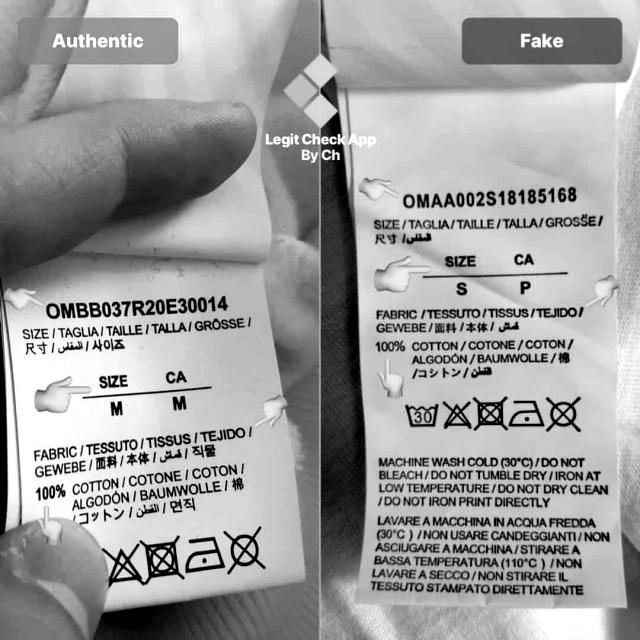30C: (404, 395, 442, 430)
DN_bleach: (107, 541, 142, 588), (444, 398, 472, 433)
DN_dry_clean: (221, 523, 266, 580), (545, 392, 586, 435)
DN_tumble_dry: (140, 532, 186, 588), (474, 394, 509, 434)
iron_low: (184, 533, 227, 576), (512, 395, 546, 431)
